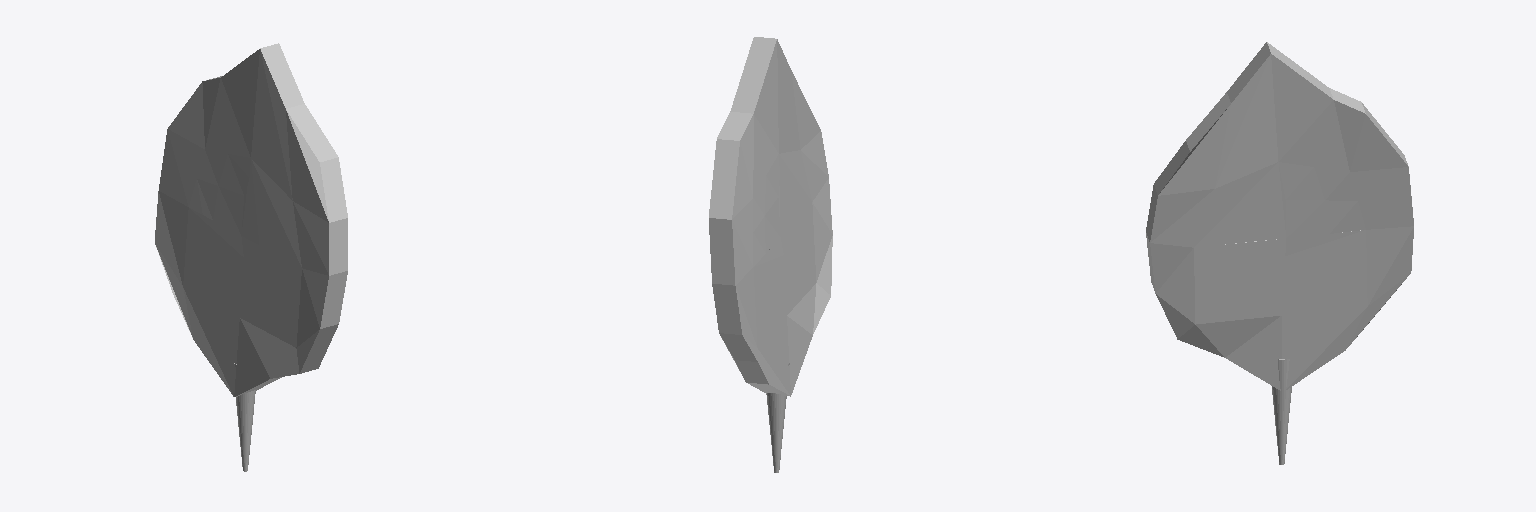
Rendered from leaf.obj.
3 renders of one model, left to right at view 1: azimuth 30°, elevation 25°; view 2: azimuth 150°, elevation 25°; view 3: azimuth 270°, elevation 25°, orthographic.
Visible parts, largest first — view 1: Cylinder; view 2: Cylinder; view 3: Cylinder.
Part boxes in pixels (x1,y1,x2,y2): Cylinder: (155, 43, 347, 471); Cylinder: (709, 37, 832, 472); Cylinder: (1146, 42, 1413, 464).
Size of the model in its own units: 0.4999 by 2.69 by 1.53.